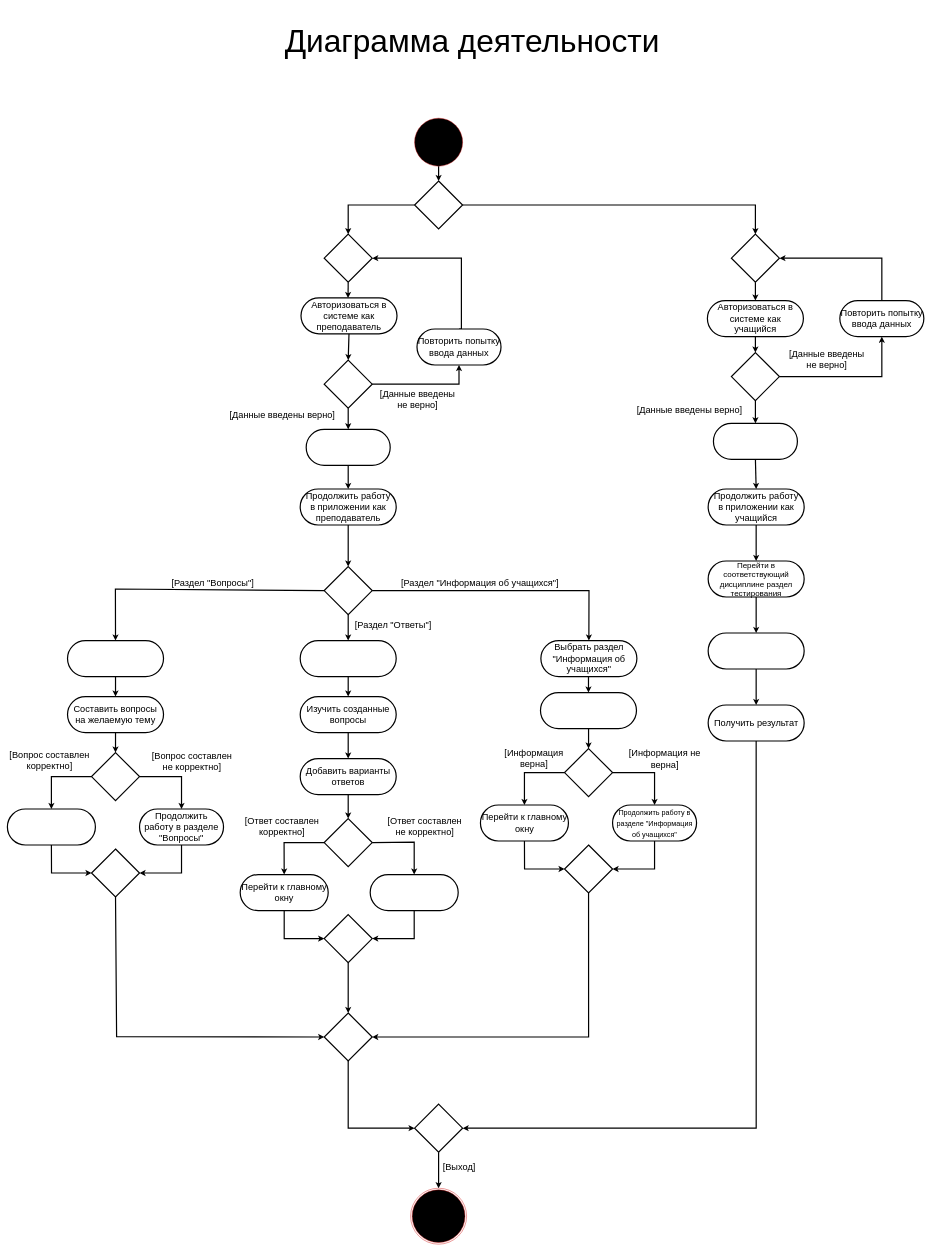
This 932x1251 diagram has some shape labels left out. Each missing label, with the centre of its shape:
Выбрать раздел "Вопросы": pixel 115 658
Выбрать раздел "Оветы": pixel 348 658
Заполнить соответствующие таблицы в базе: pixel 588 710
Начать работу в приложении: pixel 348 447
Ответить на вопросы: pixel 756 650
Перейти к созданию вариантов ответа: pixel 51 826
Продолжить работу в приложении: pixel 755 441
Продолжить работу в разделе "Ответы": pixel 414 892
